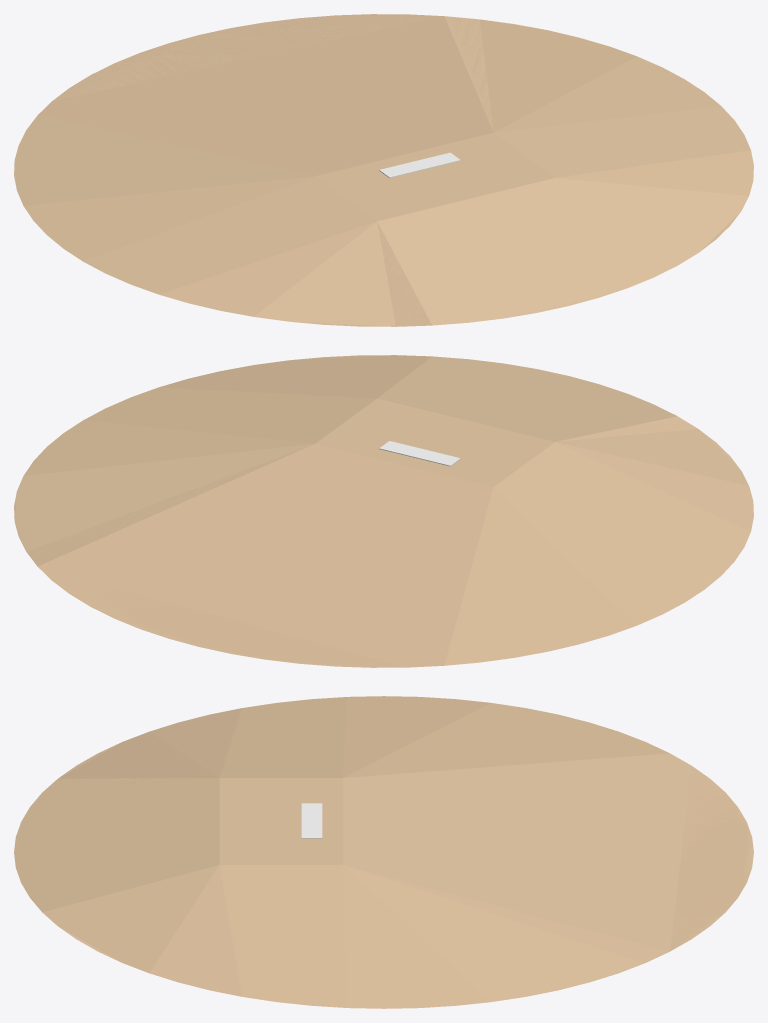
File: mound.glb
3 renders of one model, top to bottom at view 1: azimuth 30°, elevation 25°; view 2: azimuth 150°, elevation 25°; view 3: azimuth 270°, elevation 25°, orthographic.
Visible parts, largest first — view 1: Circle; view 2: Circle; view 3: Circle.
Boxes of the visible parts, x1,y1,x2,y2 form: Circle: (14,14,753,326); Circle: (14,355,753,667); Circle: (14,696,753,1008).
Size of the model in its own units: 5.49 by 0.2603 by 5.49.
